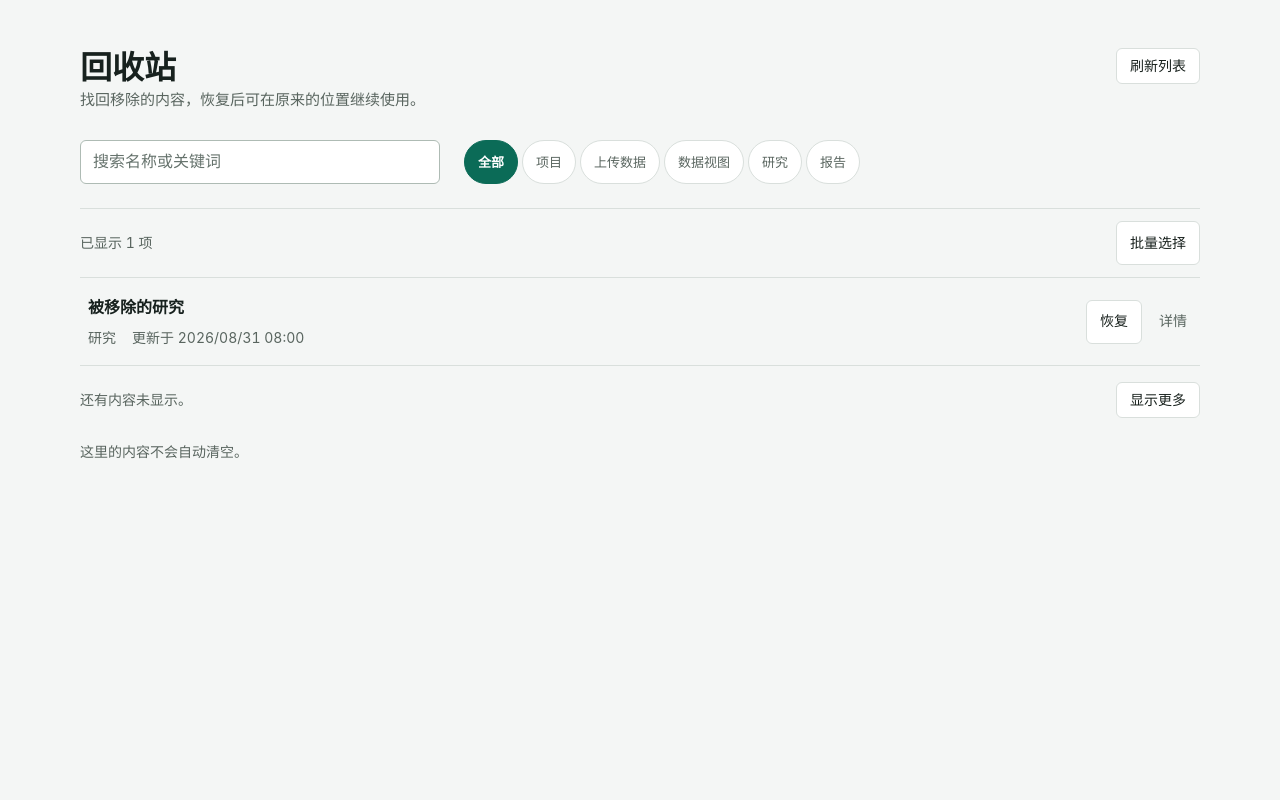
Test: retains loaded rows on failed refresh and retries the same page cursor
The image size is (1280, 800).
Expected: the heading "被移除的研究" is shown, [88,297,184,317]
Click the button "显示更多".
click(1158, 400)  # box [1116,382,1200,418]
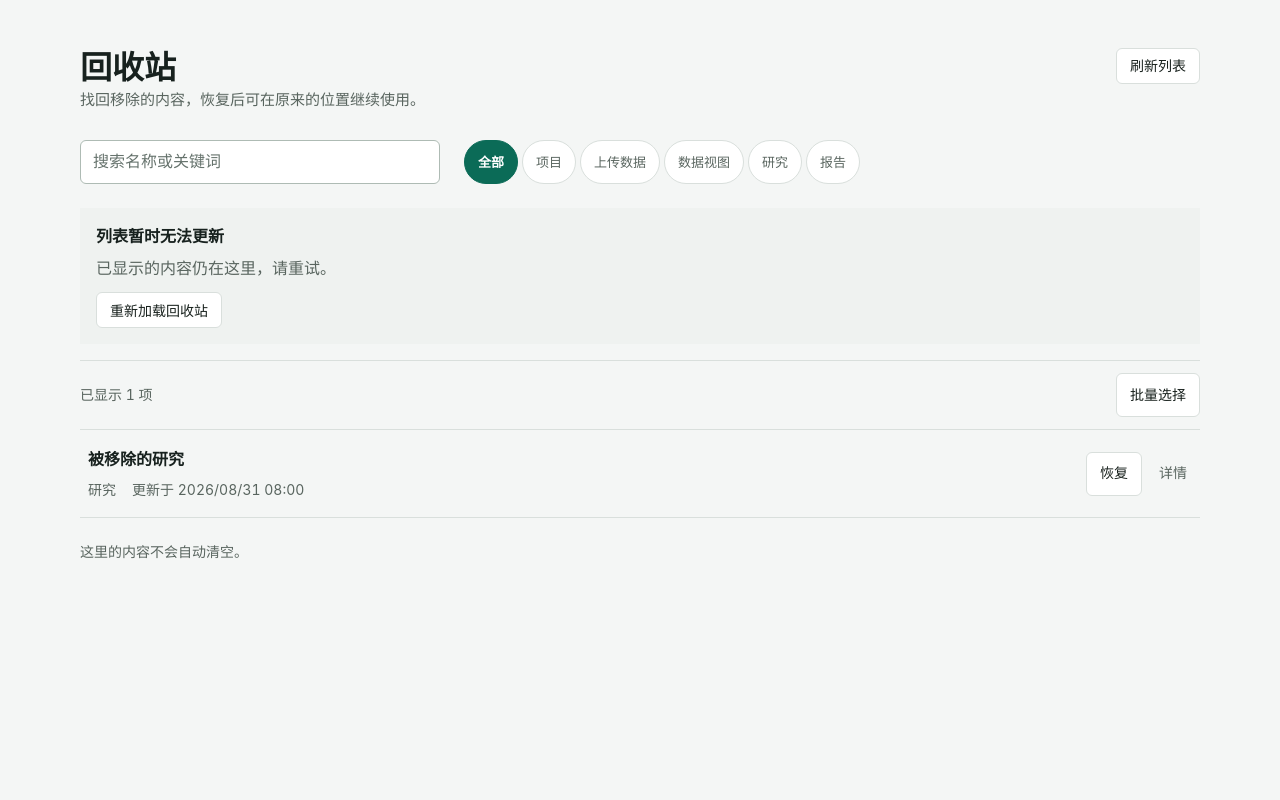
Expected: the heading "被移除的研究" is shown, [88,449,184,469]
Result: the text "列表暂时无法更新" is shown at [96,226,224,246]
Click the button "重新加载回收站".
click(159, 310)  # box [96,292,222,328]
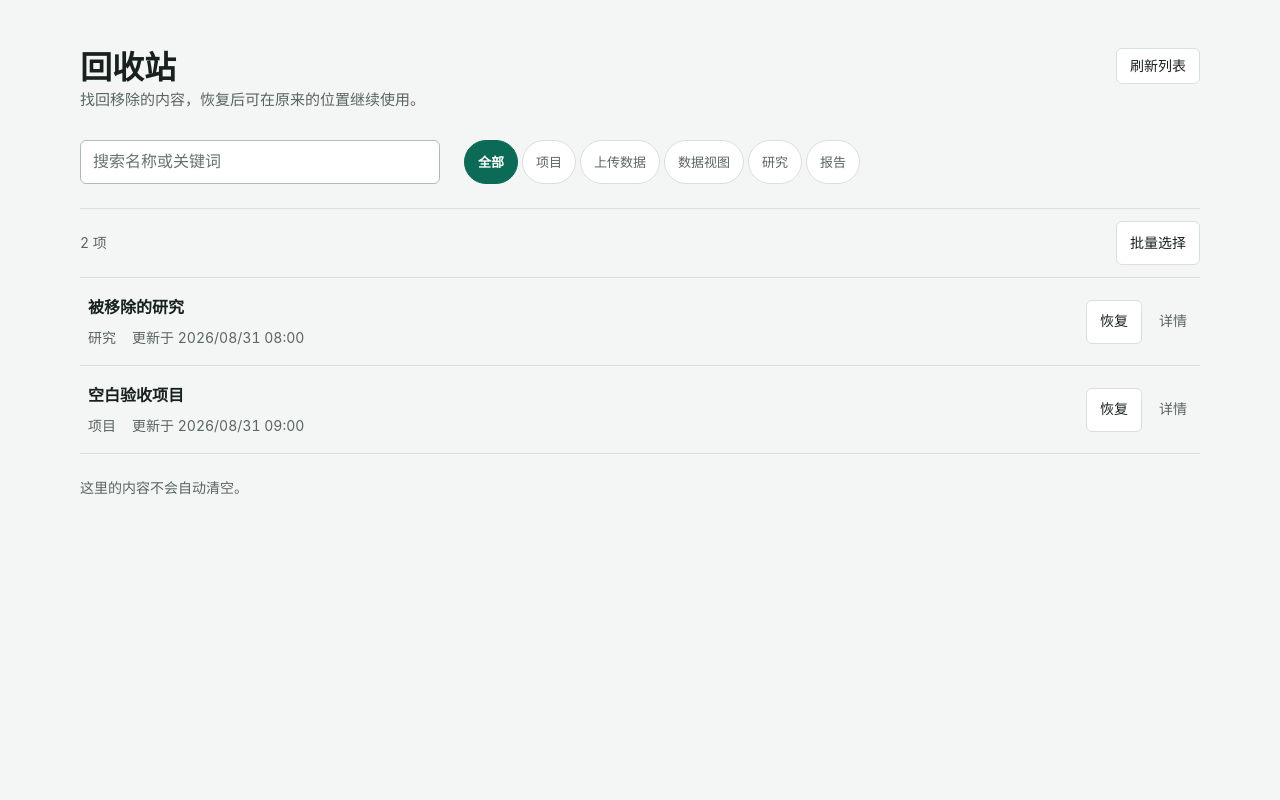
Result: the heading "空白验收项目" is shown at [88,385,184,405]
Result: the number of headings "被移除的研究" is 1 at [88,297,184,317]
Click the button "刷新列表".
click(1158, 66)  # box [1116,48,1200,84]
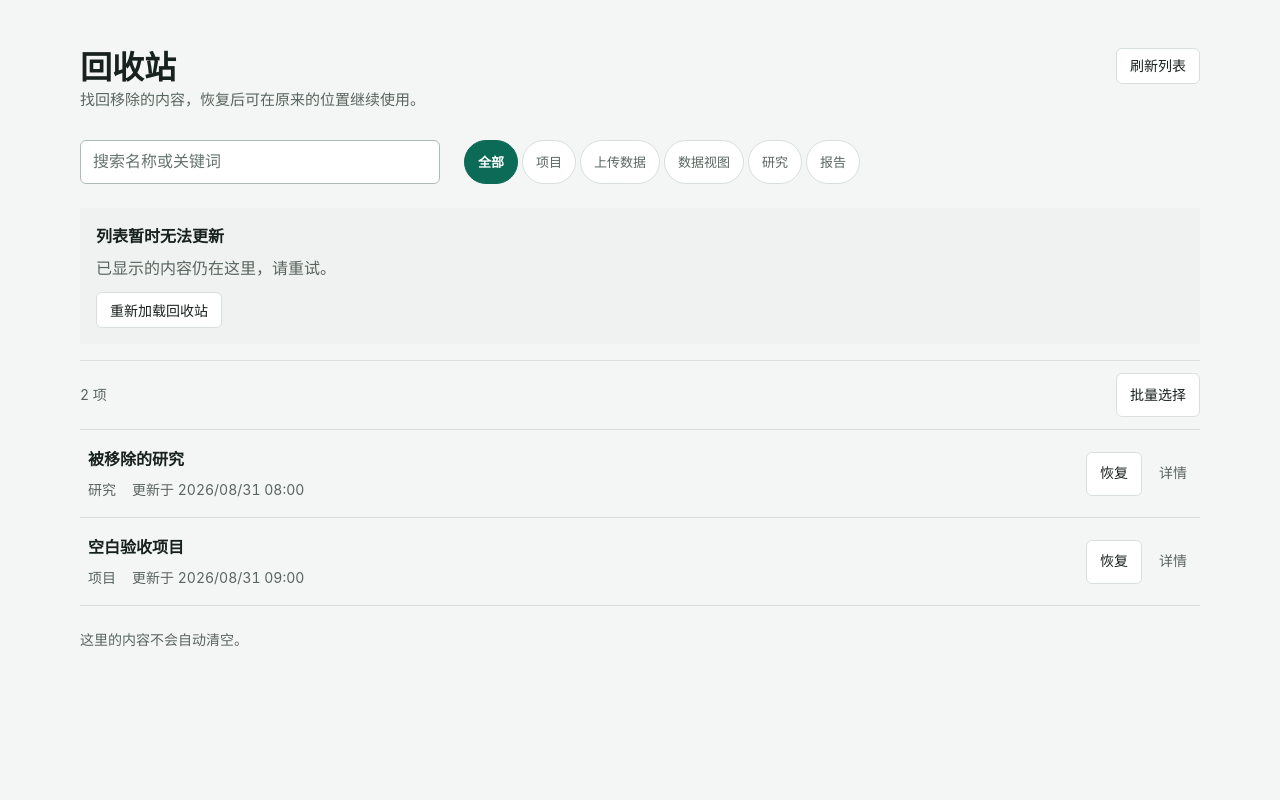
Result: the heading "空白验收项目" is shown at [88,537,184,557]
Result: the text "列表暂时无法更新" is shown at [96,226,224,246]
